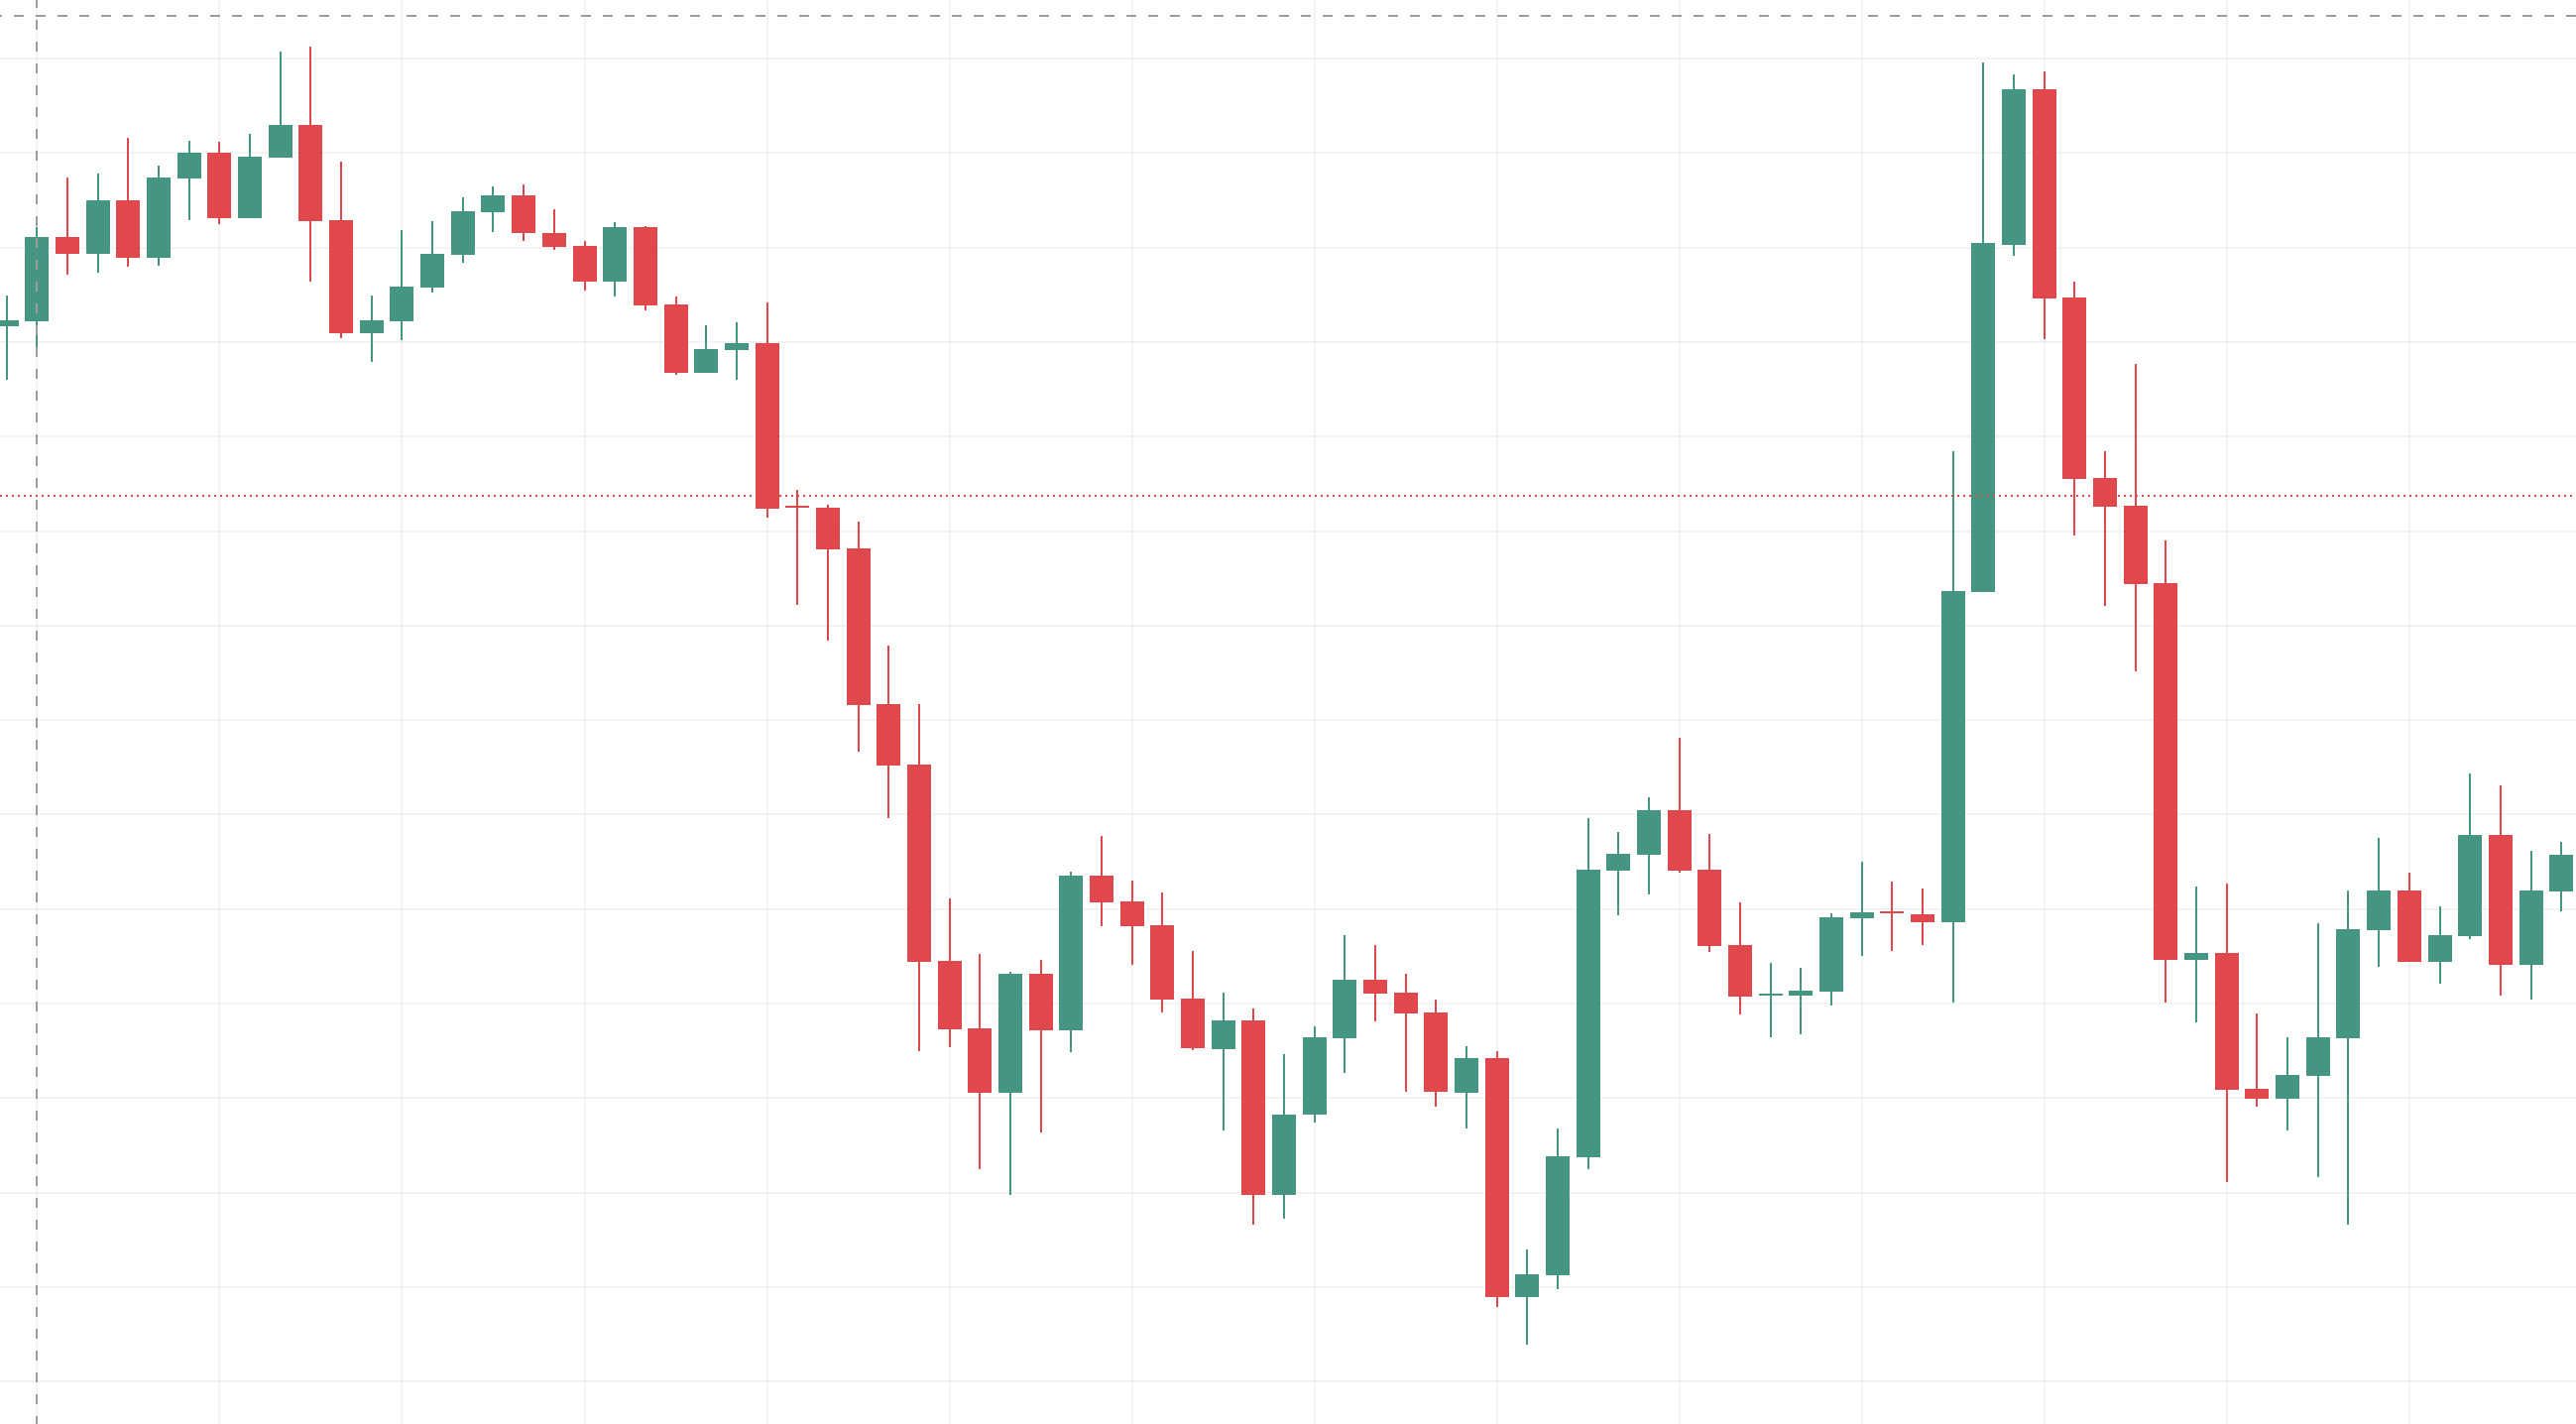V-turn: (721, 228, 1088, 1229)
